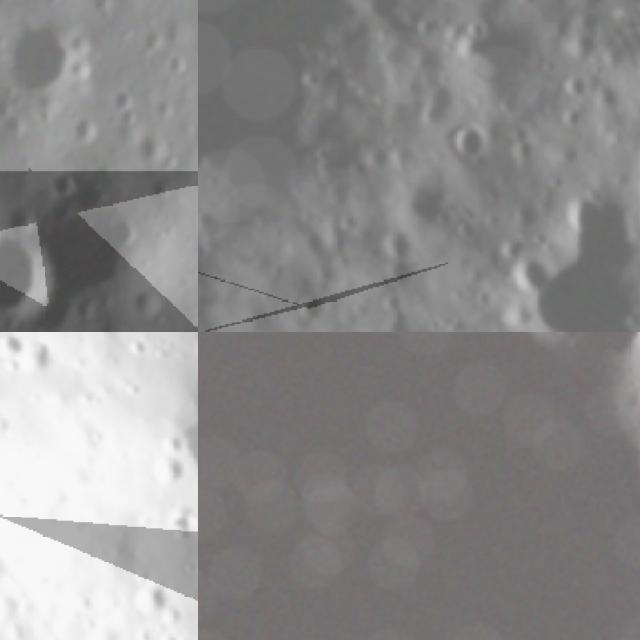crater: (198, 332, 640, 640), (465, 159, 640, 332), (383, 156, 474, 244), (0, 201, 60, 325), (3, 14, 86, 90), (403, 71, 478, 146), (497, 242, 568, 309), (442, 114, 502, 174), (120, 574, 175, 627), (140, 445, 193, 498), (287, 280, 338, 332), (547, 99, 594, 146), (557, 64, 600, 109), (67, 585, 99, 621), (426, 0, 491, 17), (121, 333, 152, 362), (0, 332, 26, 363), (0, 353, 24, 380), (345, 0, 394, 11), (0, 401, 13, 442)
